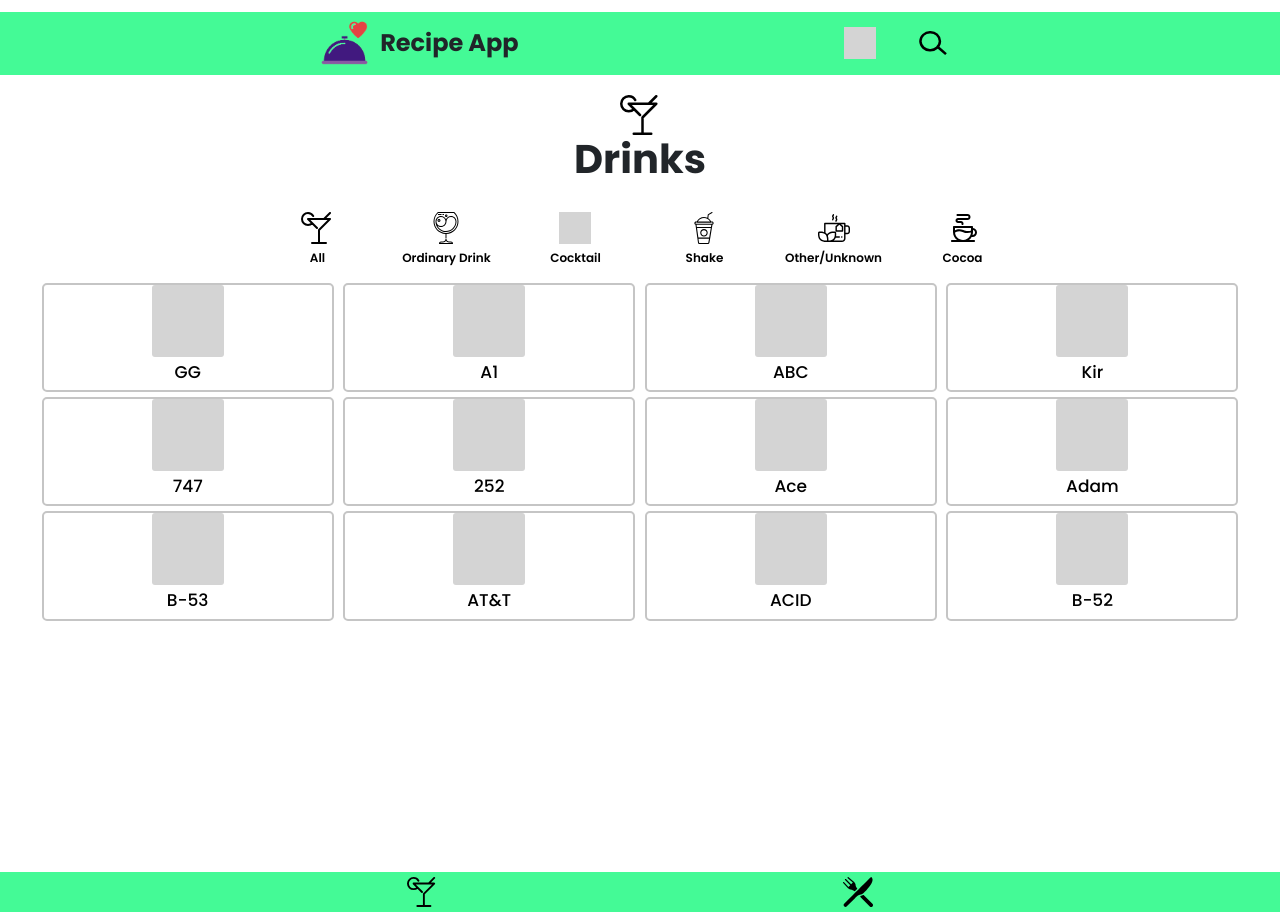
Scenario: Teste da rota "/drinks" › Verifica o filtro pela categoria "All"
Click the button with test id "Cocktail-category-filter" at (575,239), box [514,210,637,268]
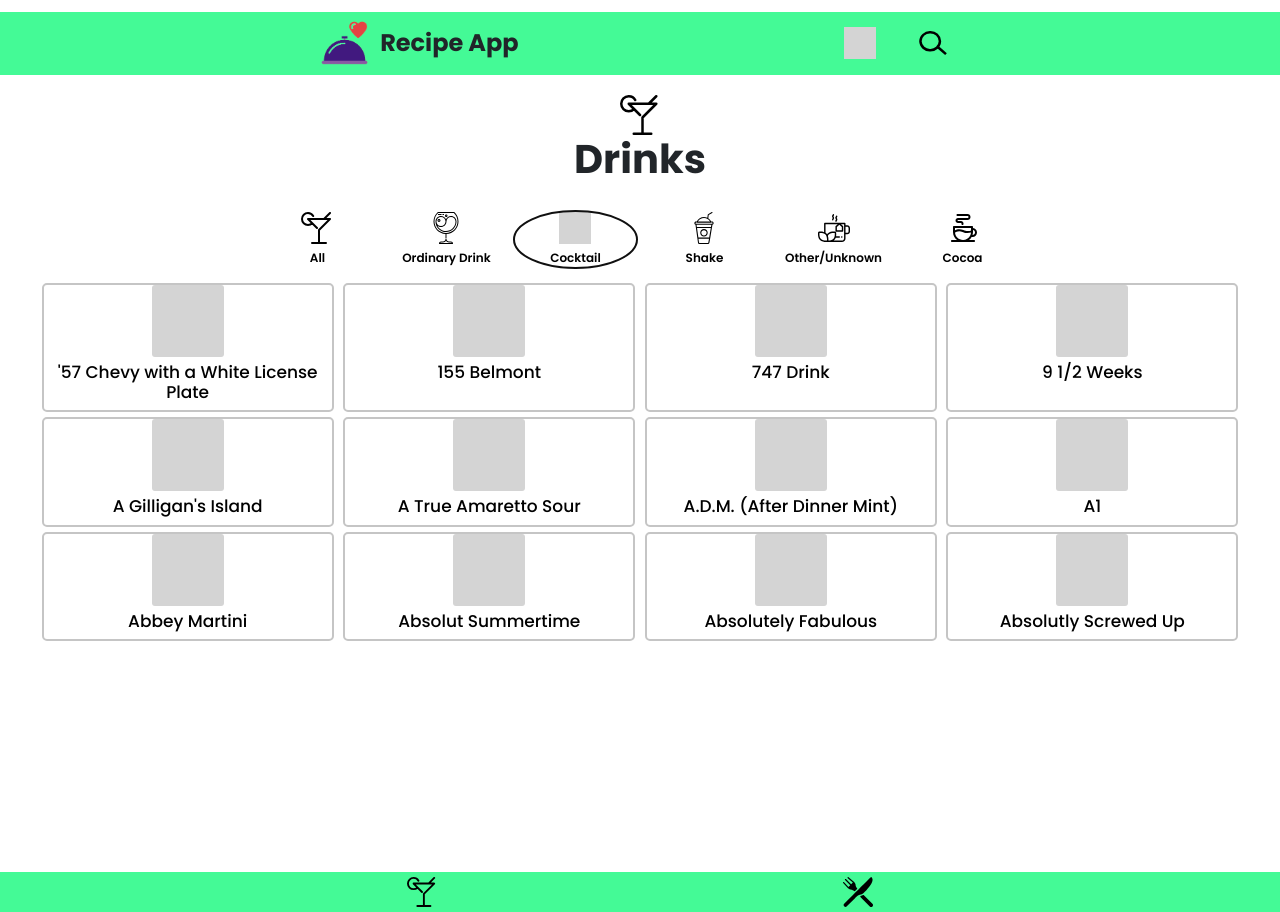
Result: the heading with test id "0-card-name" reads "'57 Chevy with a White License Plate" at [58,360,318,404]
Click the button with test id "All-category-filter" at (317,239), box [256,210,379,268]
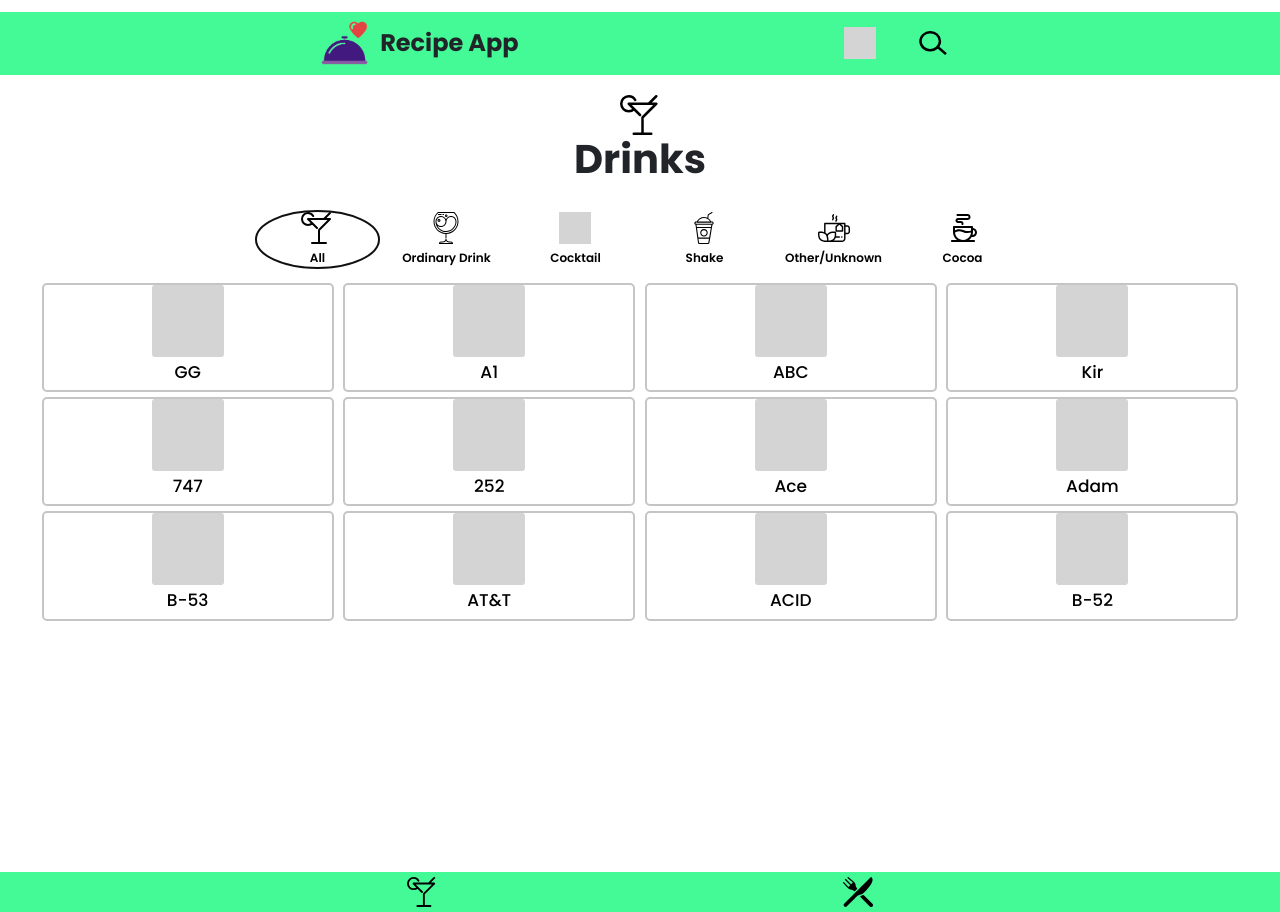
Result: the heading with test id "0-card-name" reads "GG" at [174,360,201,384]
